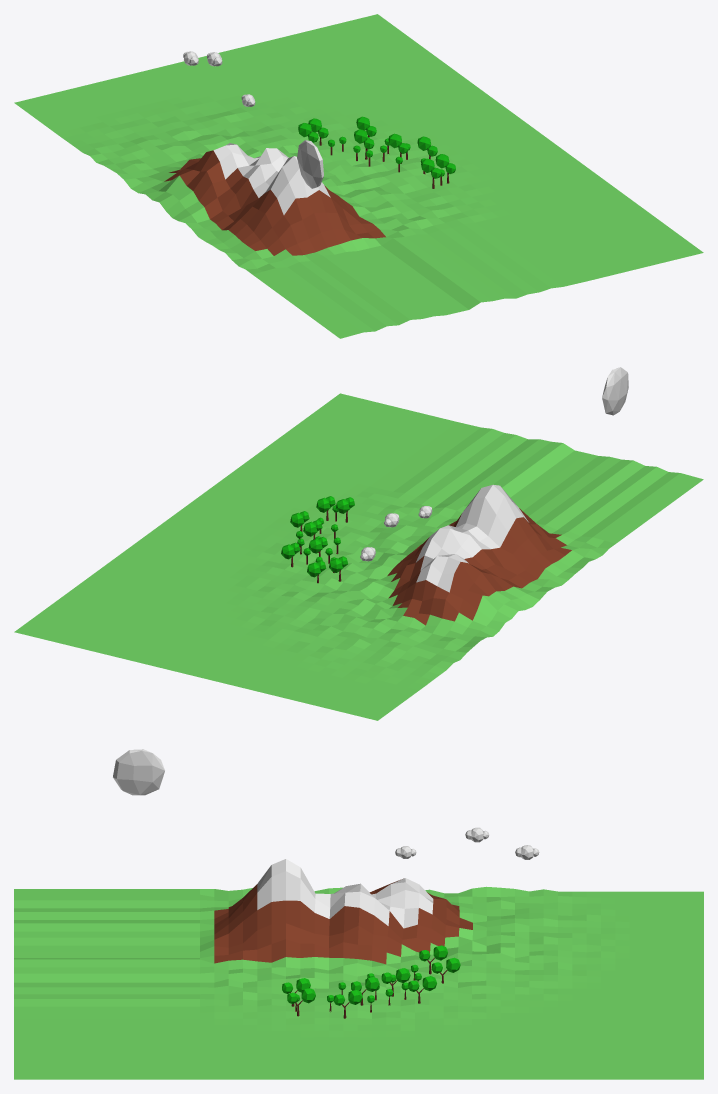
File: Terrain.fbx
The picture shows the model from 3 angles, top to bottom: view 1: azimuth 30°, elevation 25°; view 2: azimuth 150°, elevation 25°; view 3: azimuth 270°, elevation 25°; orthographic projection. The views are drawn at different scales.
Parts seen in each view (by area): view 1: Plane, Sphere.023; view 2: Plane, Sphere.023; view 3: Plane, Sphere.023.
Part boxes in pixels (<box>): Plane: <box>14,14,703,338</box>; Sphere.023: <box>297,140,323,188</box>; Plane: <box>14,393,703,720</box>; Sphere.023: <box>602,367,628,415</box>; Plane: <box>14,859,703,1079</box>; Sphere.023: <box>113,749,164,795</box>.
Bounding box in the file's own units: 1565 × 618 × 2430.
